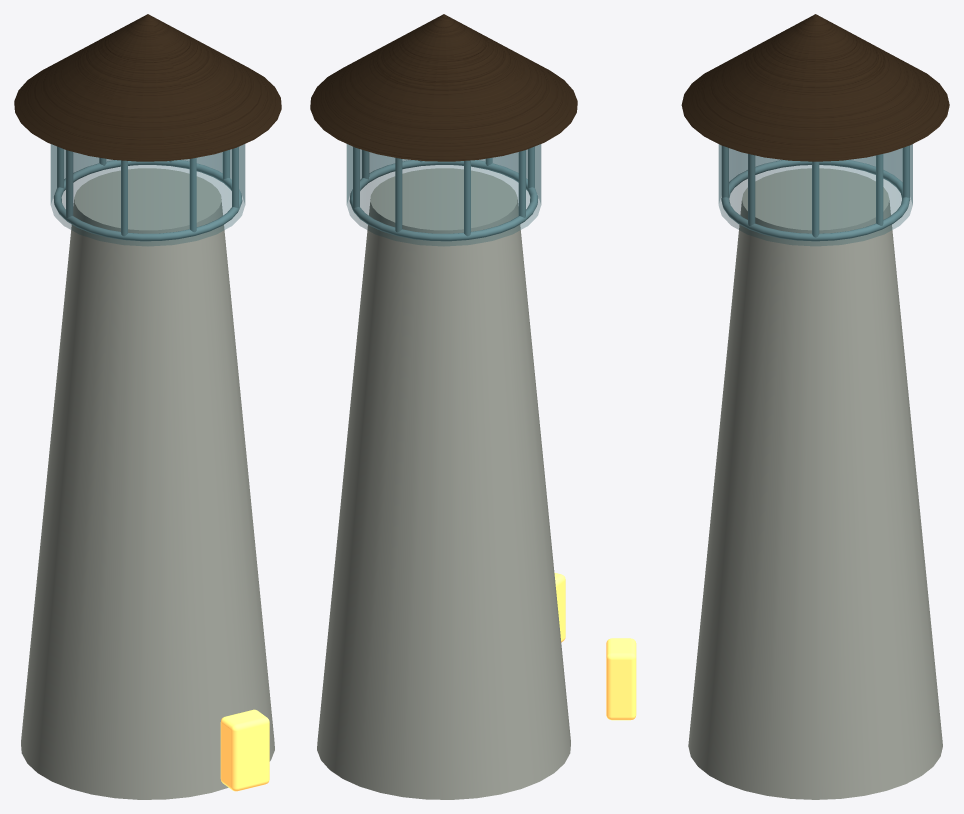
File: lighthouse.glb
3 renders of one model, left to right at view 1: azimuth 30°, elevation 25°; view 2: azimuth 150°, elevation 25°; view 3: azimuth 270°, elevation 25°, orthographic.
Visible parts, largest first — view 1: AuroraLighthouse, LighthouseRoof, LanternRoom, BeaconSwitch, LanternFrameRing, LanternFramePost (×3); view 2: AuroraLighthouse, LighthouseRoof, LanternRoom, LanternFrameRing, LanternFramePost (×3), BeaconSwitch; view 3: AuroraLighthouse, LighthouseRoof, LanternRoom, LanternFrameRing, BeaconSwitch.
Boxes of the visible parts, x1,y1,x2,y2 form: AuroraLighthouse: (21, 168, 274, 799); LighthouseRoof: (14, 14, 281, 161); LanternRoom: (50, 144, 245, 246); BeaconSwitch: (220, 709, 269, 791); LanternFrameRing: (53, 160, 242, 241); LanternFramePost (×3): (66, 150, 196, 236); AuroraLighthouse: (317, 168, 570, 799); LighthouseRoof: (310, 14, 577, 161); LanternRoom: (346, 144, 541, 246); LanternFrameRing: (349, 160, 538, 241); LanternFramePost (×3): (395, 150, 525, 236); BeaconSwitch: (554, 572, 565, 642); AuroraLighthouse: (688, 168, 942, 799); LighthouseRoof: (681, 14, 949, 161); LanternRoom: (718, 144, 912, 245); LanternFrameRing: (721, 160, 909, 241); BeaconSwitch: (606, 638, 636, 720).
Bounding box in the file's own units: 4 × 12.05 × 5.12.
9 materials, 1 textured.
